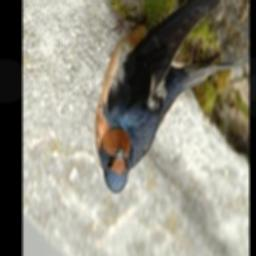Swallow: (94, 0, 249, 197)
